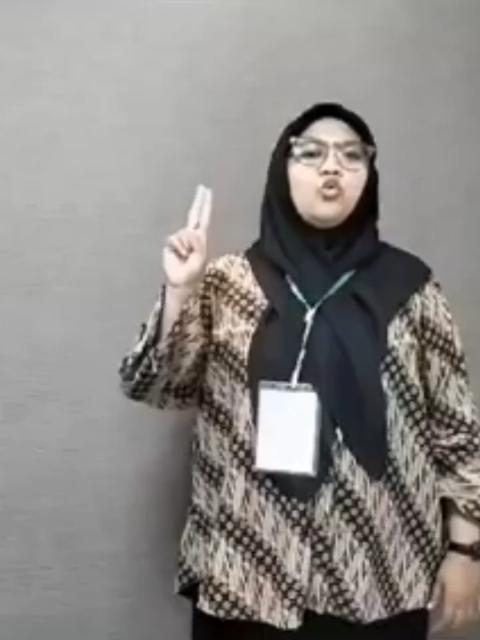U: (163, 182, 215, 286)
